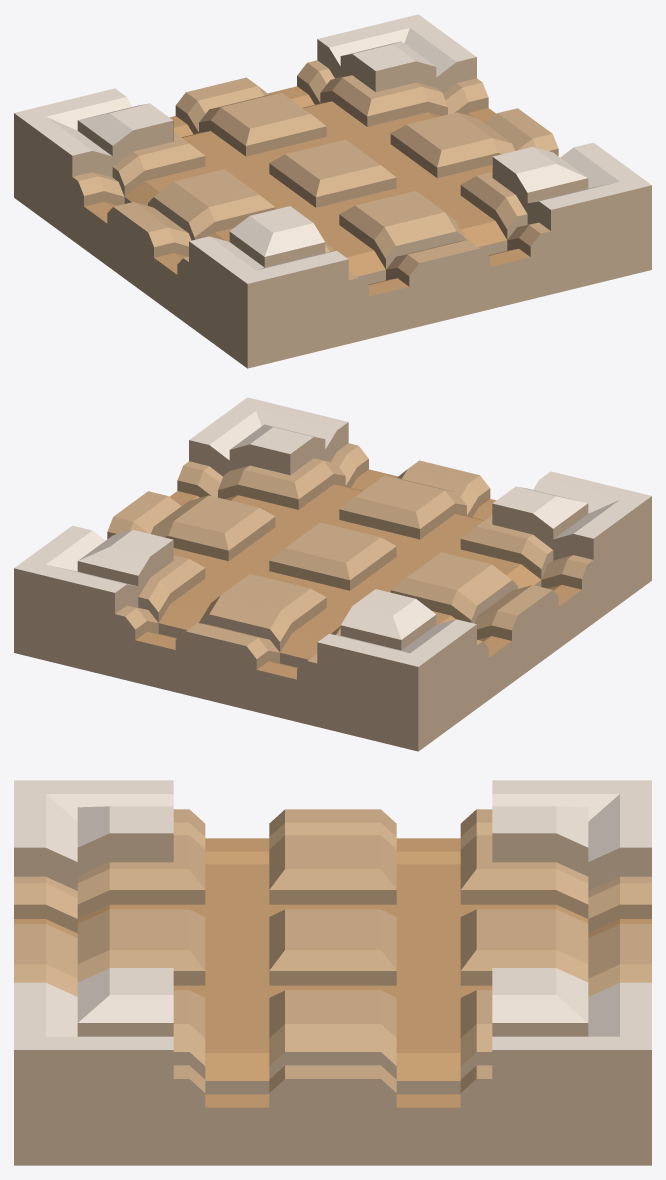
File: Puzzle_Track_Button_Cross.obj
3 renders of one model, top to bottom at view 1: azimuth 30°, elevation 25°; view 2: azimuth 150°, elevation 25°; view 3: azimuth 270°, elevation 25°, orthographic. The views are drawn at different scales.
Visible parts, largest first — view 1: object2, object1; view 2: object2, object1; view 3: object1, object2.
Part boxes in pixels (left/top/right/bottom): object2: left=14, top=14, right=651, bottom=368; object1: left=77, top=41, right=588, bottom=284; object2: left=14, top=397, right=651, bottom=751; object1: left=77, top=424, right=588, bottom=667; object1: left=77, top=806, right=588, bottom=1094; object2: left=14, top=780, right=651, bottom=1165.
Size of the model in its own units: 1 by 0.225 by 1.
